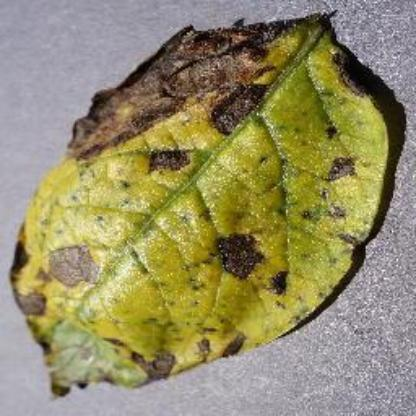Early-Blight: (11, 13, 393, 399)
